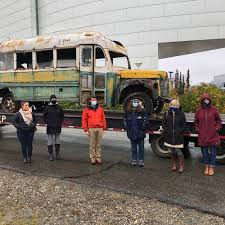bus: (1, 31, 174, 116)
